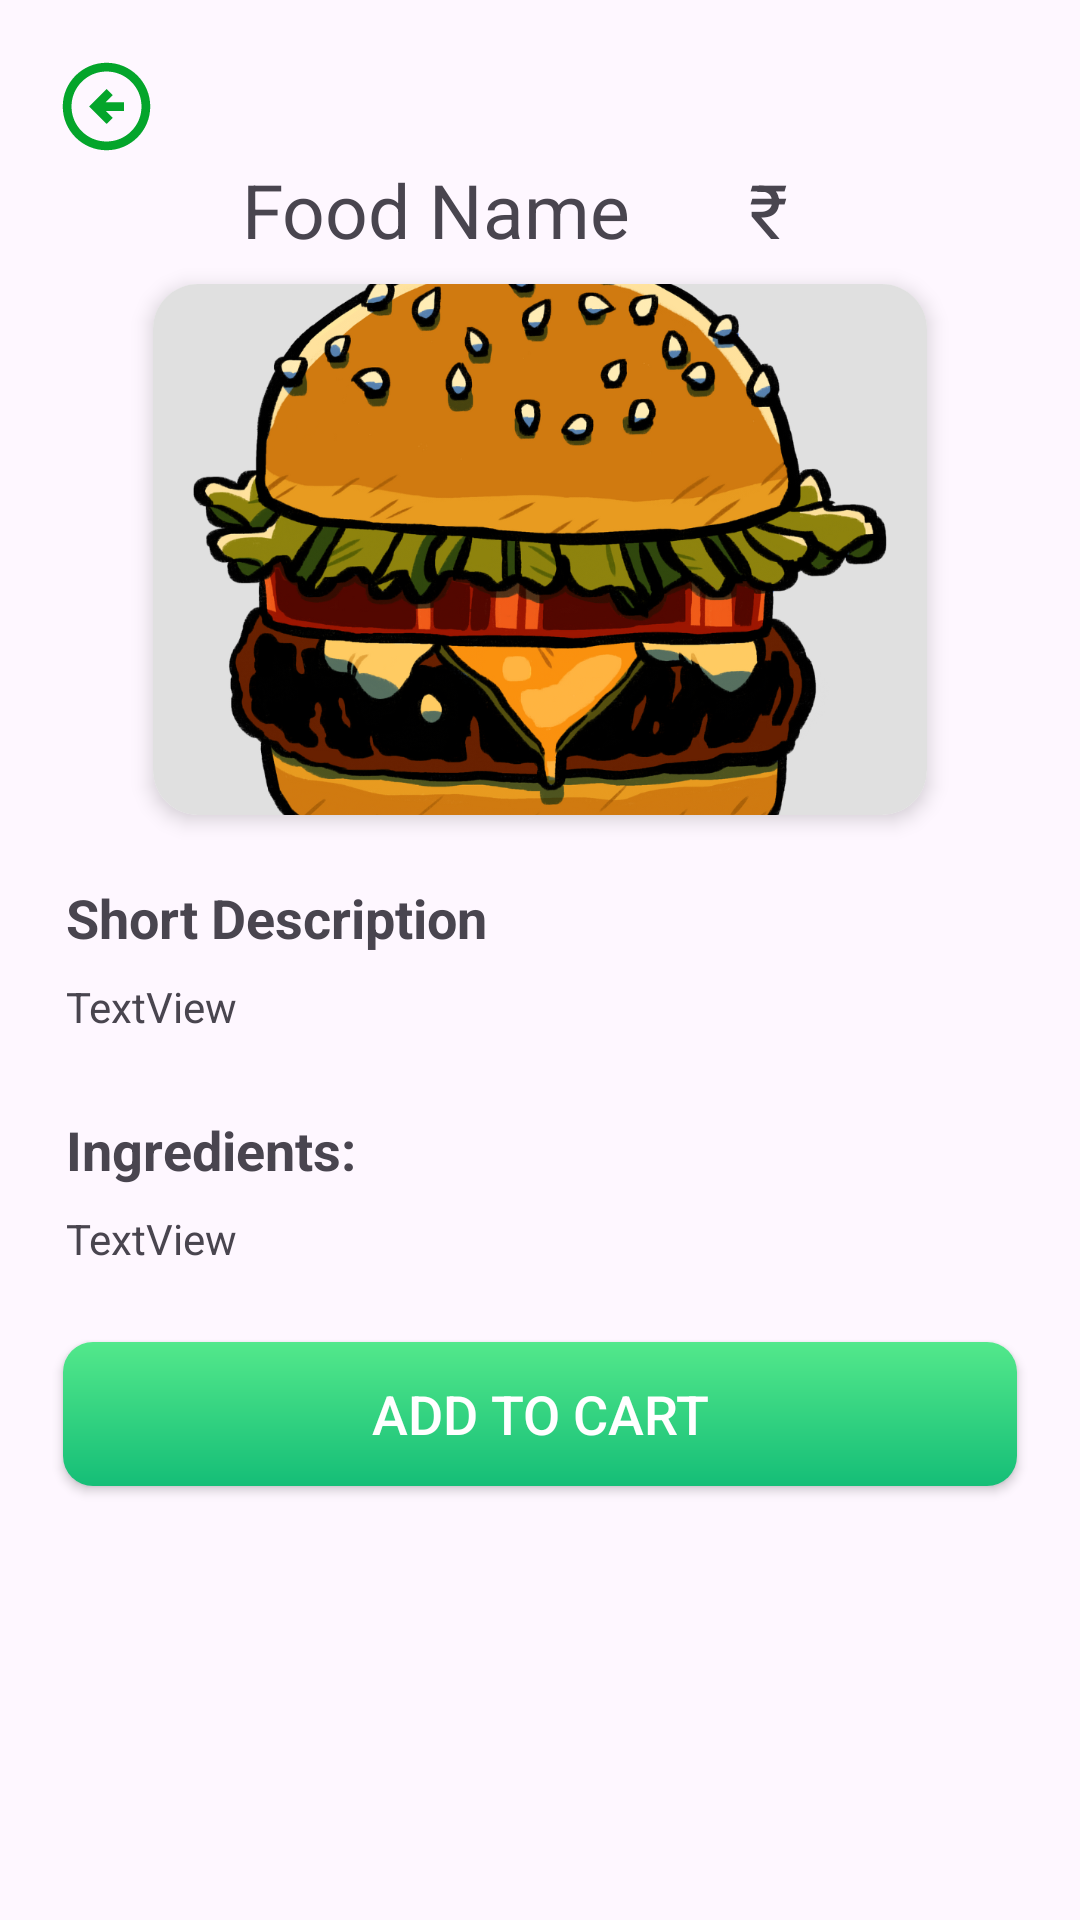

Icons on this 1080x1920 Android screen, each with the point to tap as point (x, y):
arrow left: point (106, 106)
